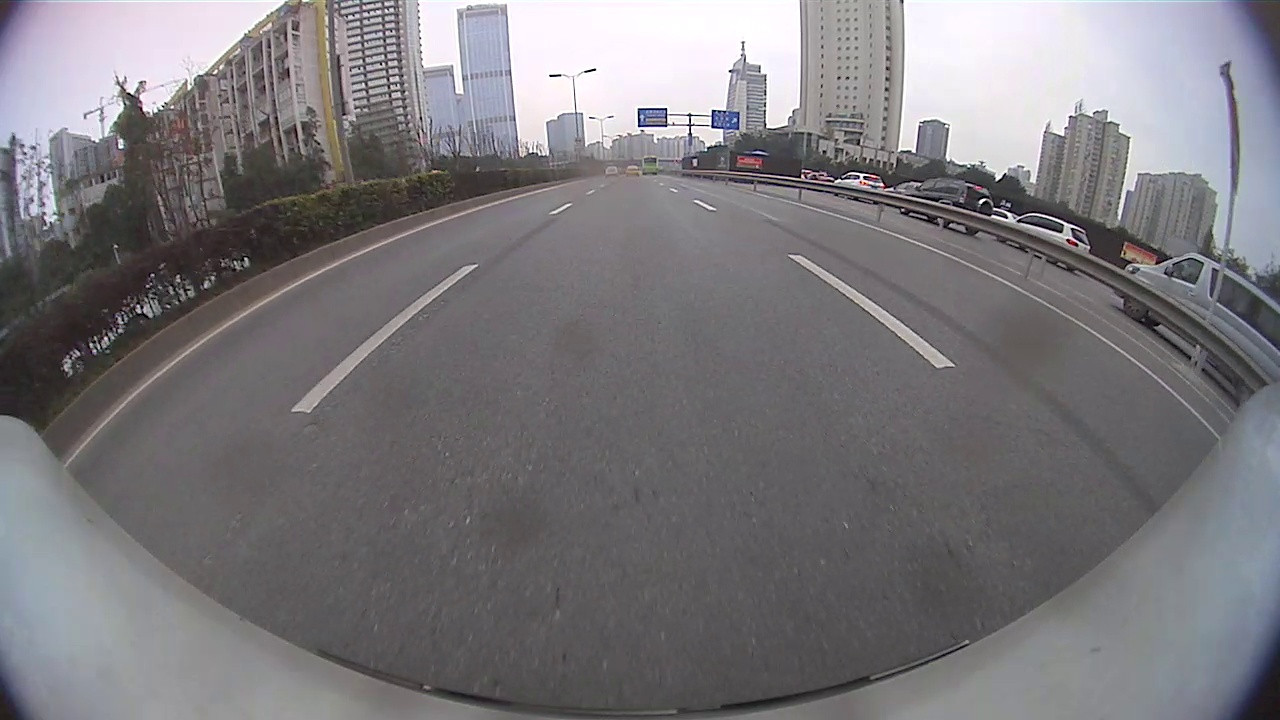car: (1123, 252, 1278, 397), (899, 176, 994, 235), (996, 213, 1091, 271), (832, 171, 884, 193), (885, 181, 926, 194), (992, 207, 1019, 224)
front: (1122, 291, 1152, 322)
